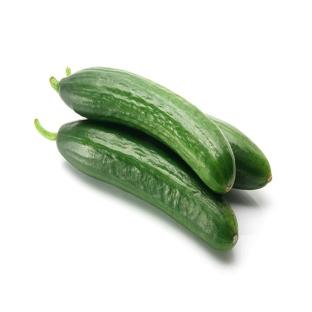Cucumber: (35, 120, 238, 250), (51, 68, 235, 193), (209, 116, 271, 189)
